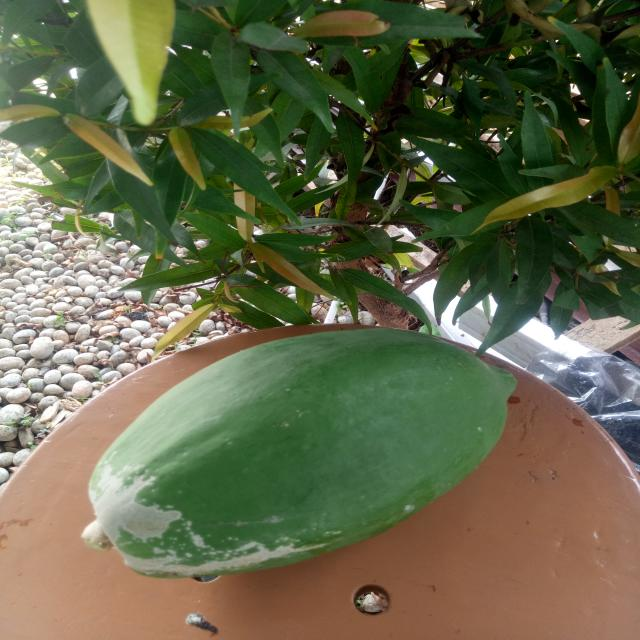Pepaya unrippen: (80, 324, 538, 580)
